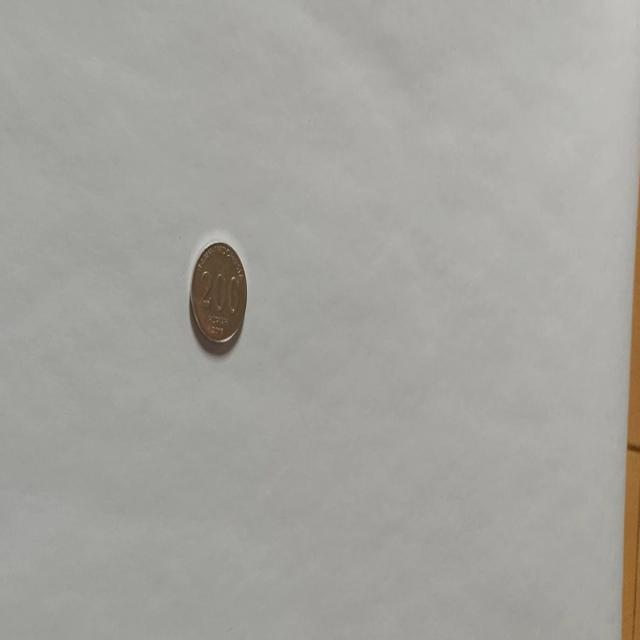dua ratus rupiah: (188, 238, 248, 347)
